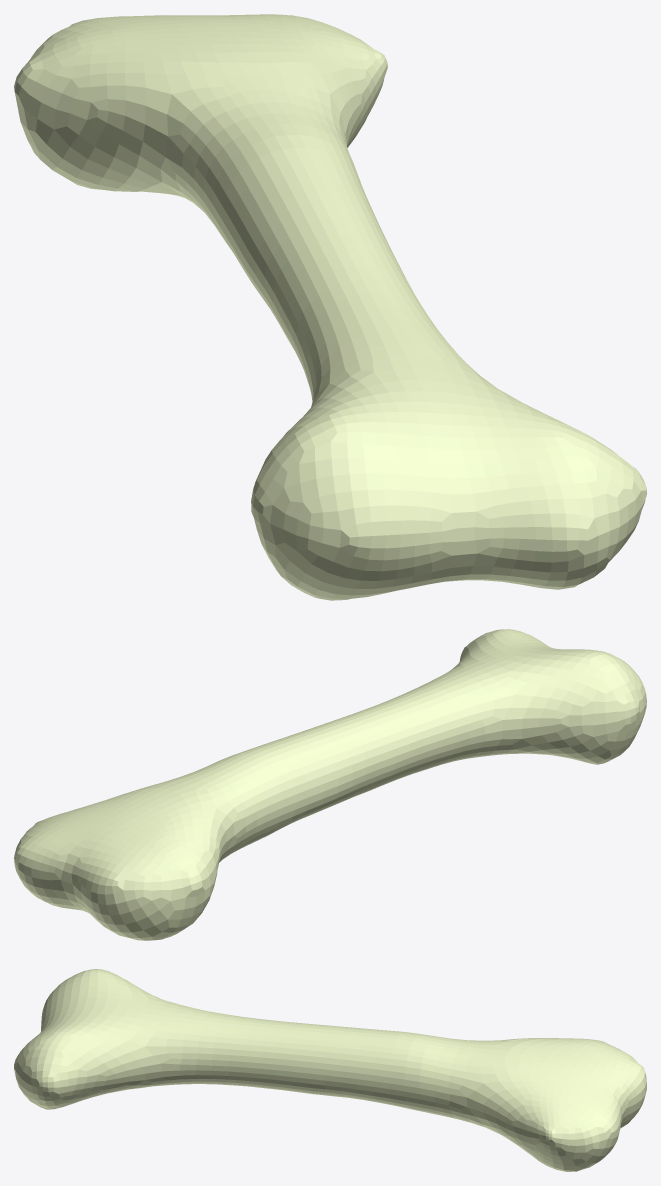
The model's file is Bone.fbx.
3 renders of one model, top to bottom at view 1: azimuth 30°, elevation 25°; view 2: azimuth 150°, elevation 25°; view 3: azimuth 270°, elevation 25°, orthographic. The views are drawn at different scales.
Parts seen in each view (by area): view 1: Bone; view 2: Bone; view 3: Bone.
Boxes of the visible parts, left/top/right/bottom form: Bone: left=14, top=14, right=646, bottom=600; Bone: left=14, top=629, right=646, bottom=940; Bone: left=14, top=969, right=646, bottom=1171.
Bounding box in the file's own units: 9.25 × 2.76 × 17.32.
